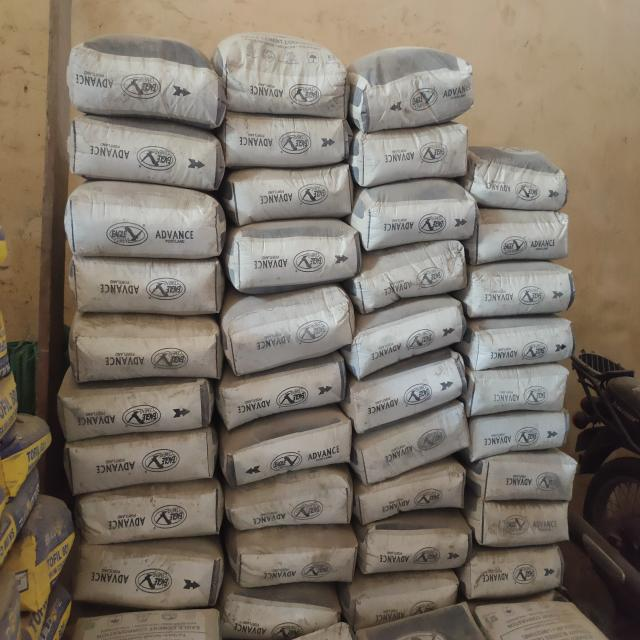Cement: (69, 42, 212, 119), (72, 113, 224, 184), (68, 189, 220, 260), (214, 41, 345, 118), (346, 51, 477, 128), (223, 301, 351, 367), (79, 546, 213, 608), (75, 323, 217, 380), (231, 108, 351, 175), (75, 258, 216, 315), (224, 163, 354, 222), (64, 384, 209, 436), (464, 146, 569, 214), (363, 124, 468, 192), (68, 440, 214, 488), (79, 492, 225, 540), (352, 312, 467, 371), (236, 227, 361, 281), (232, 423, 356, 477), (359, 193, 477, 248), (229, 486, 356, 536), (231, 536, 358, 586), (225, 374, 349, 423), (472, 207, 569, 269), (474, 256, 571, 318), (359, 246, 465, 301), (227, 594, 343, 640), (356, 570, 459, 621), (474, 320, 576, 370), (76, 606, 221, 640), (475, 452, 574, 501), (476, 496, 575, 545), (467, 551, 566, 600), (360, 367, 459, 416), (367, 420, 466, 469), (372, 521, 471, 570), (366, 466, 464, 515), (474, 363, 568, 413), (472, 413, 567, 462)
